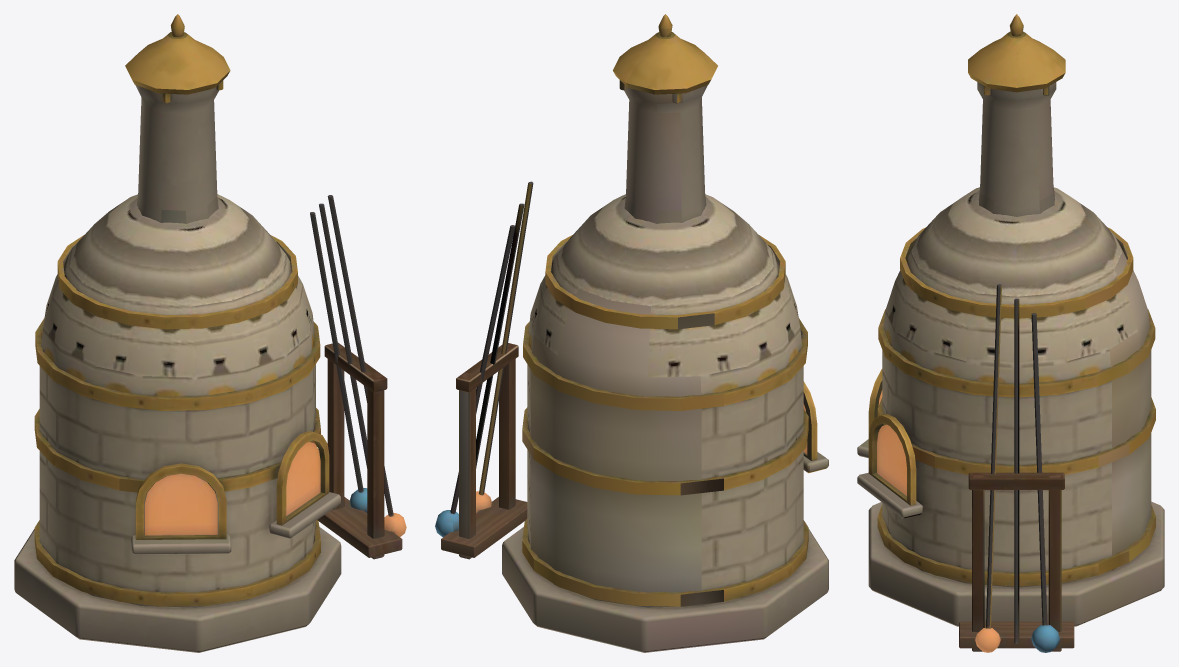
File: glass-furnace.glb
3 renders of one model, left to right at view 1: azimuth 30°, elevation 25°; view 2: azimuth 150°, elevation 25°; view 3: azimuth 270°, elevation 25°, orthographic. The views are drawn at different scales.
Visible parts, largest first — view 1: glass-furnace; view 2: glass-furnace; view 3: glass-furnace.
Part boxes in pixels (box(x1,y1,x2,y2)): glass-furnace: box(14, 14, 406, 652); glass-furnace: box(435, 14, 828, 652); glass-furnace: box(857, 14, 1164, 652).
Bounding box in the file's own units: 1.21 × 1.9 × 0.9601.
Materials: 2 (2 with a texture image).
